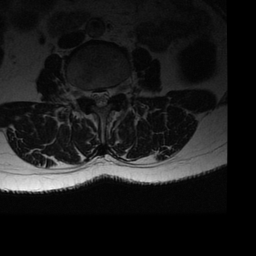CCS_normal: (97, 84, 103, 111)
LFS_normal: (110, 80, 117, 101)
LLS_normal: (104, 86, 109, 107)
RFS_stenosis: (83, 83, 91, 103)
RLS_normal: (91, 86, 97, 107)
